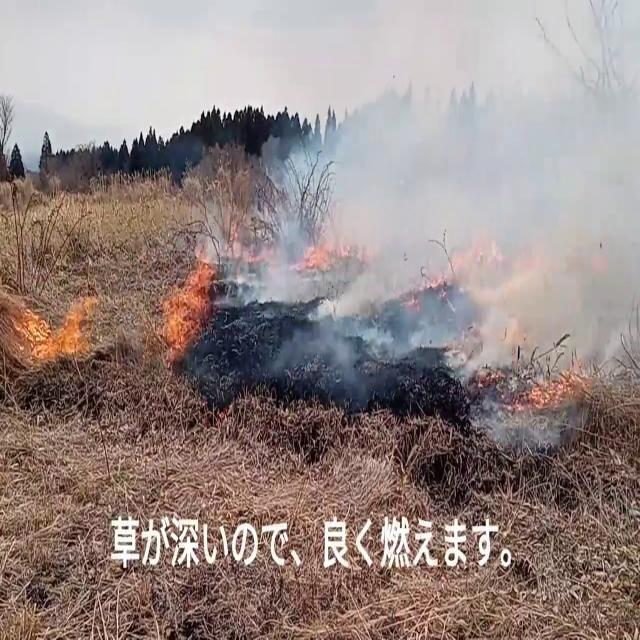Fire: (18, 278, 105, 370), (154, 252, 218, 364)
Smoke: (226, 0, 639, 388)
